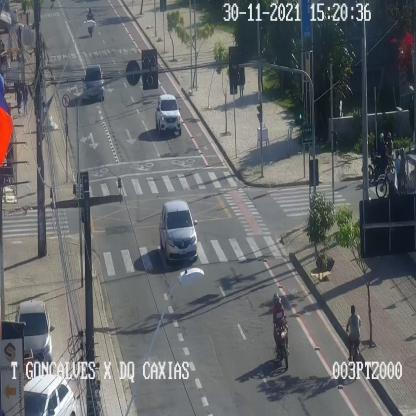bicycle: (347, 306, 362, 372)
car: (160, 199, 197, 263), (23, 376, 76, 416), (16, 300, 52, 358), (156, 96, 182, 136), (82, 63, 104, 99)
motorbike: (376, 148, 408, 197), (273, 292, 290, 368), (368, 132, 392, 179), (85, 7, 94, 36)
person: (21, 82, 29, 116), (15, 84, 21, 113)
